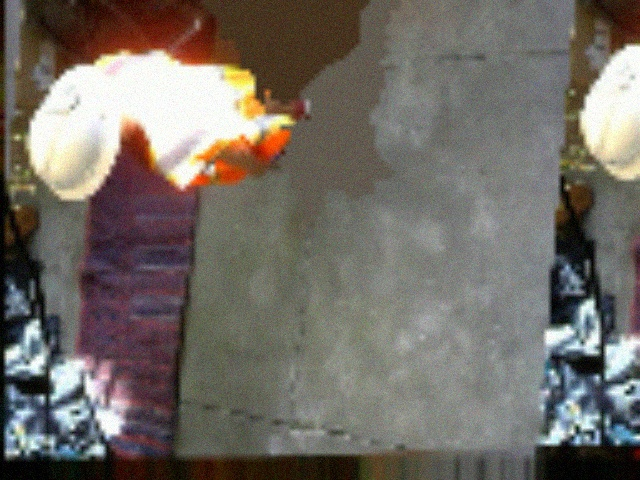two: (38, 84, 78, 113)
